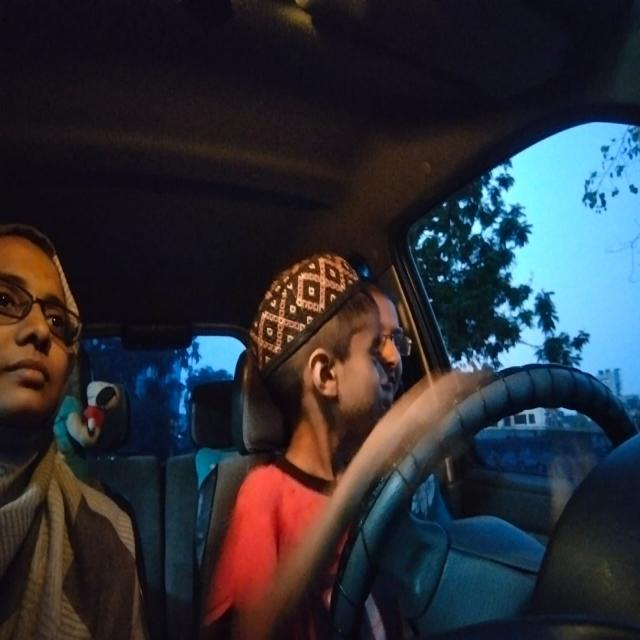child: (242, 250, 398, 439)
person: (0, 220, 108, 458), (366, 274, 421, 400)
